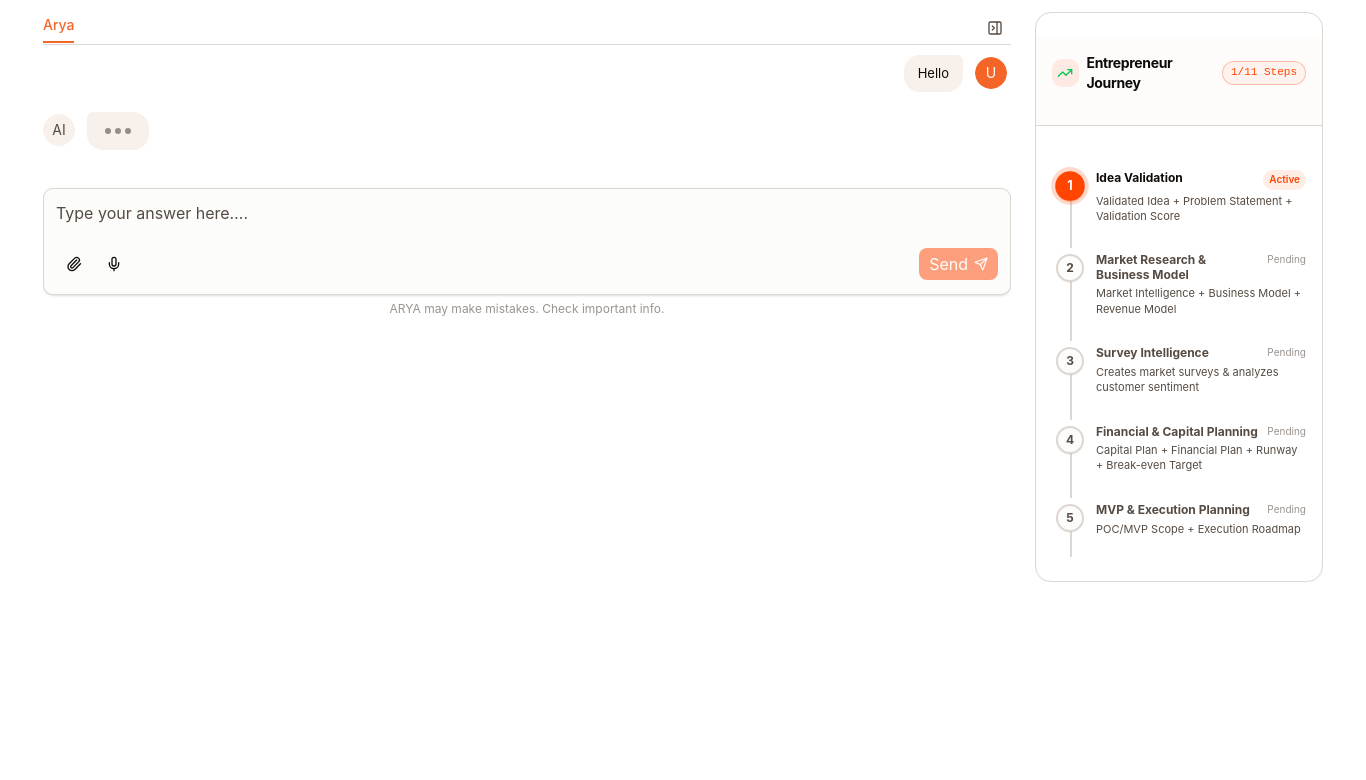
WorkspaceMentorChat › renders the Arya header and toggles workflow steps minimize/expand button
Expected: the text "Arya" is shown, x1=43 y1=14 x2=74 y2=42
Click the button named "Collapse workflow steps" at (995, 28), box x1=979 y1=12 x2=1011 y2=44
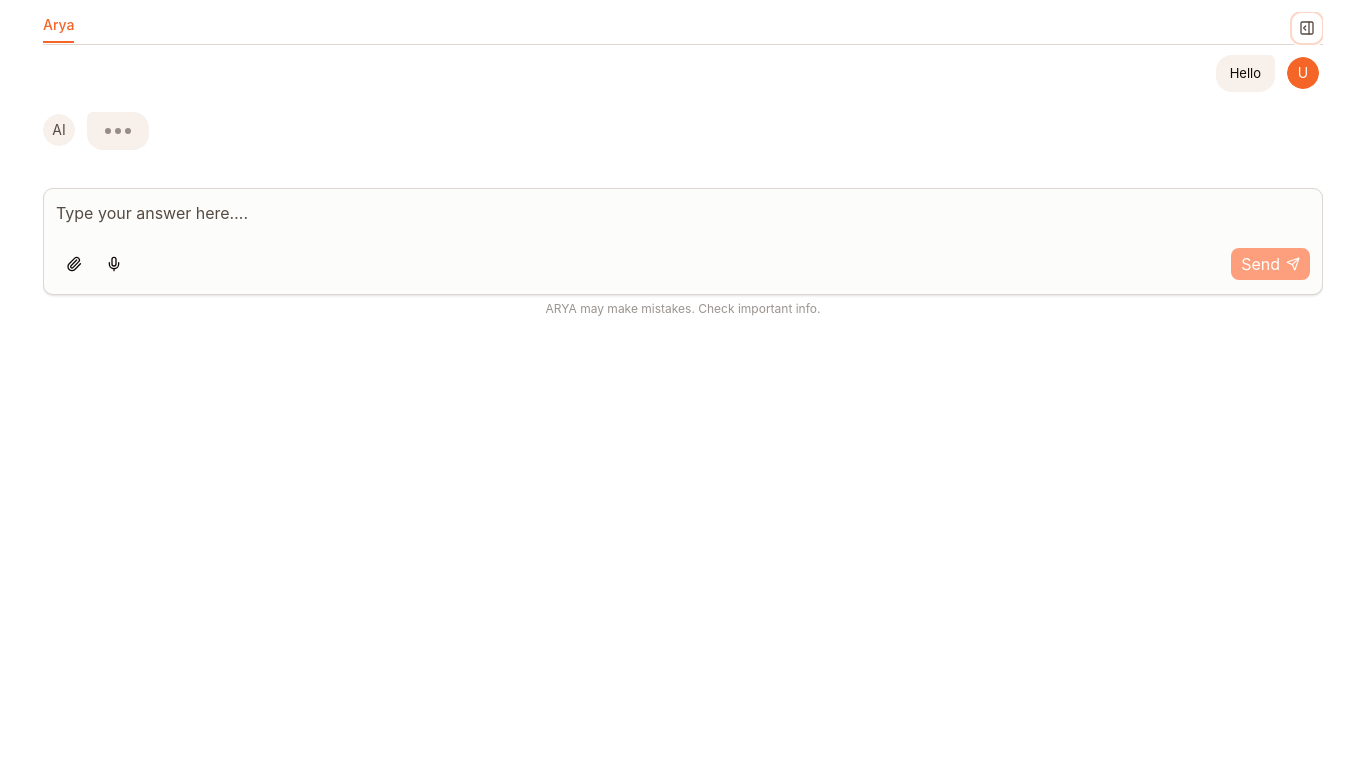
Now the button named "Expand workflow steps" is shown
Click the button named "Expand workflow steps" at (1307, 28), box x1=1291 y1=12 x2=1323 y2=44
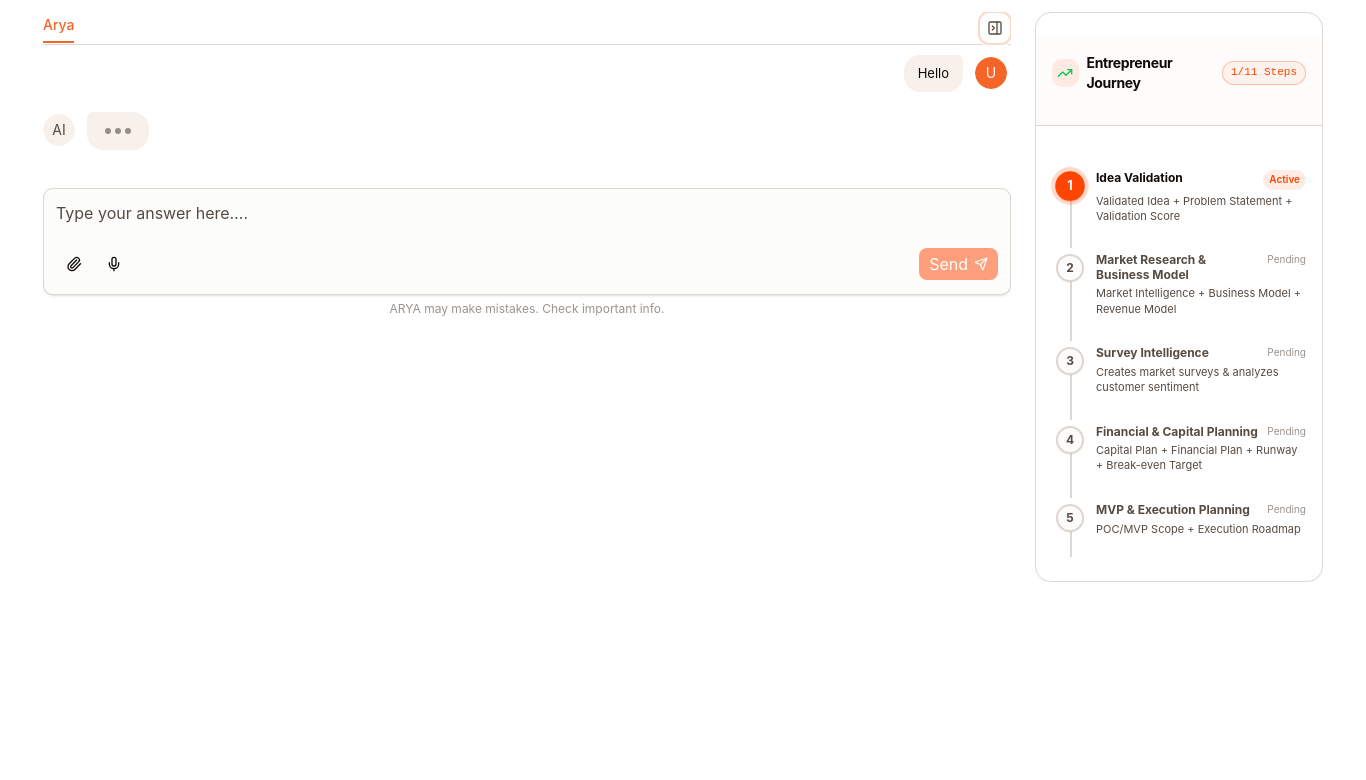
Now the button named "Collapse workflow steps" is shown, box x1=979 y1=12 x2=1011 y2=44
